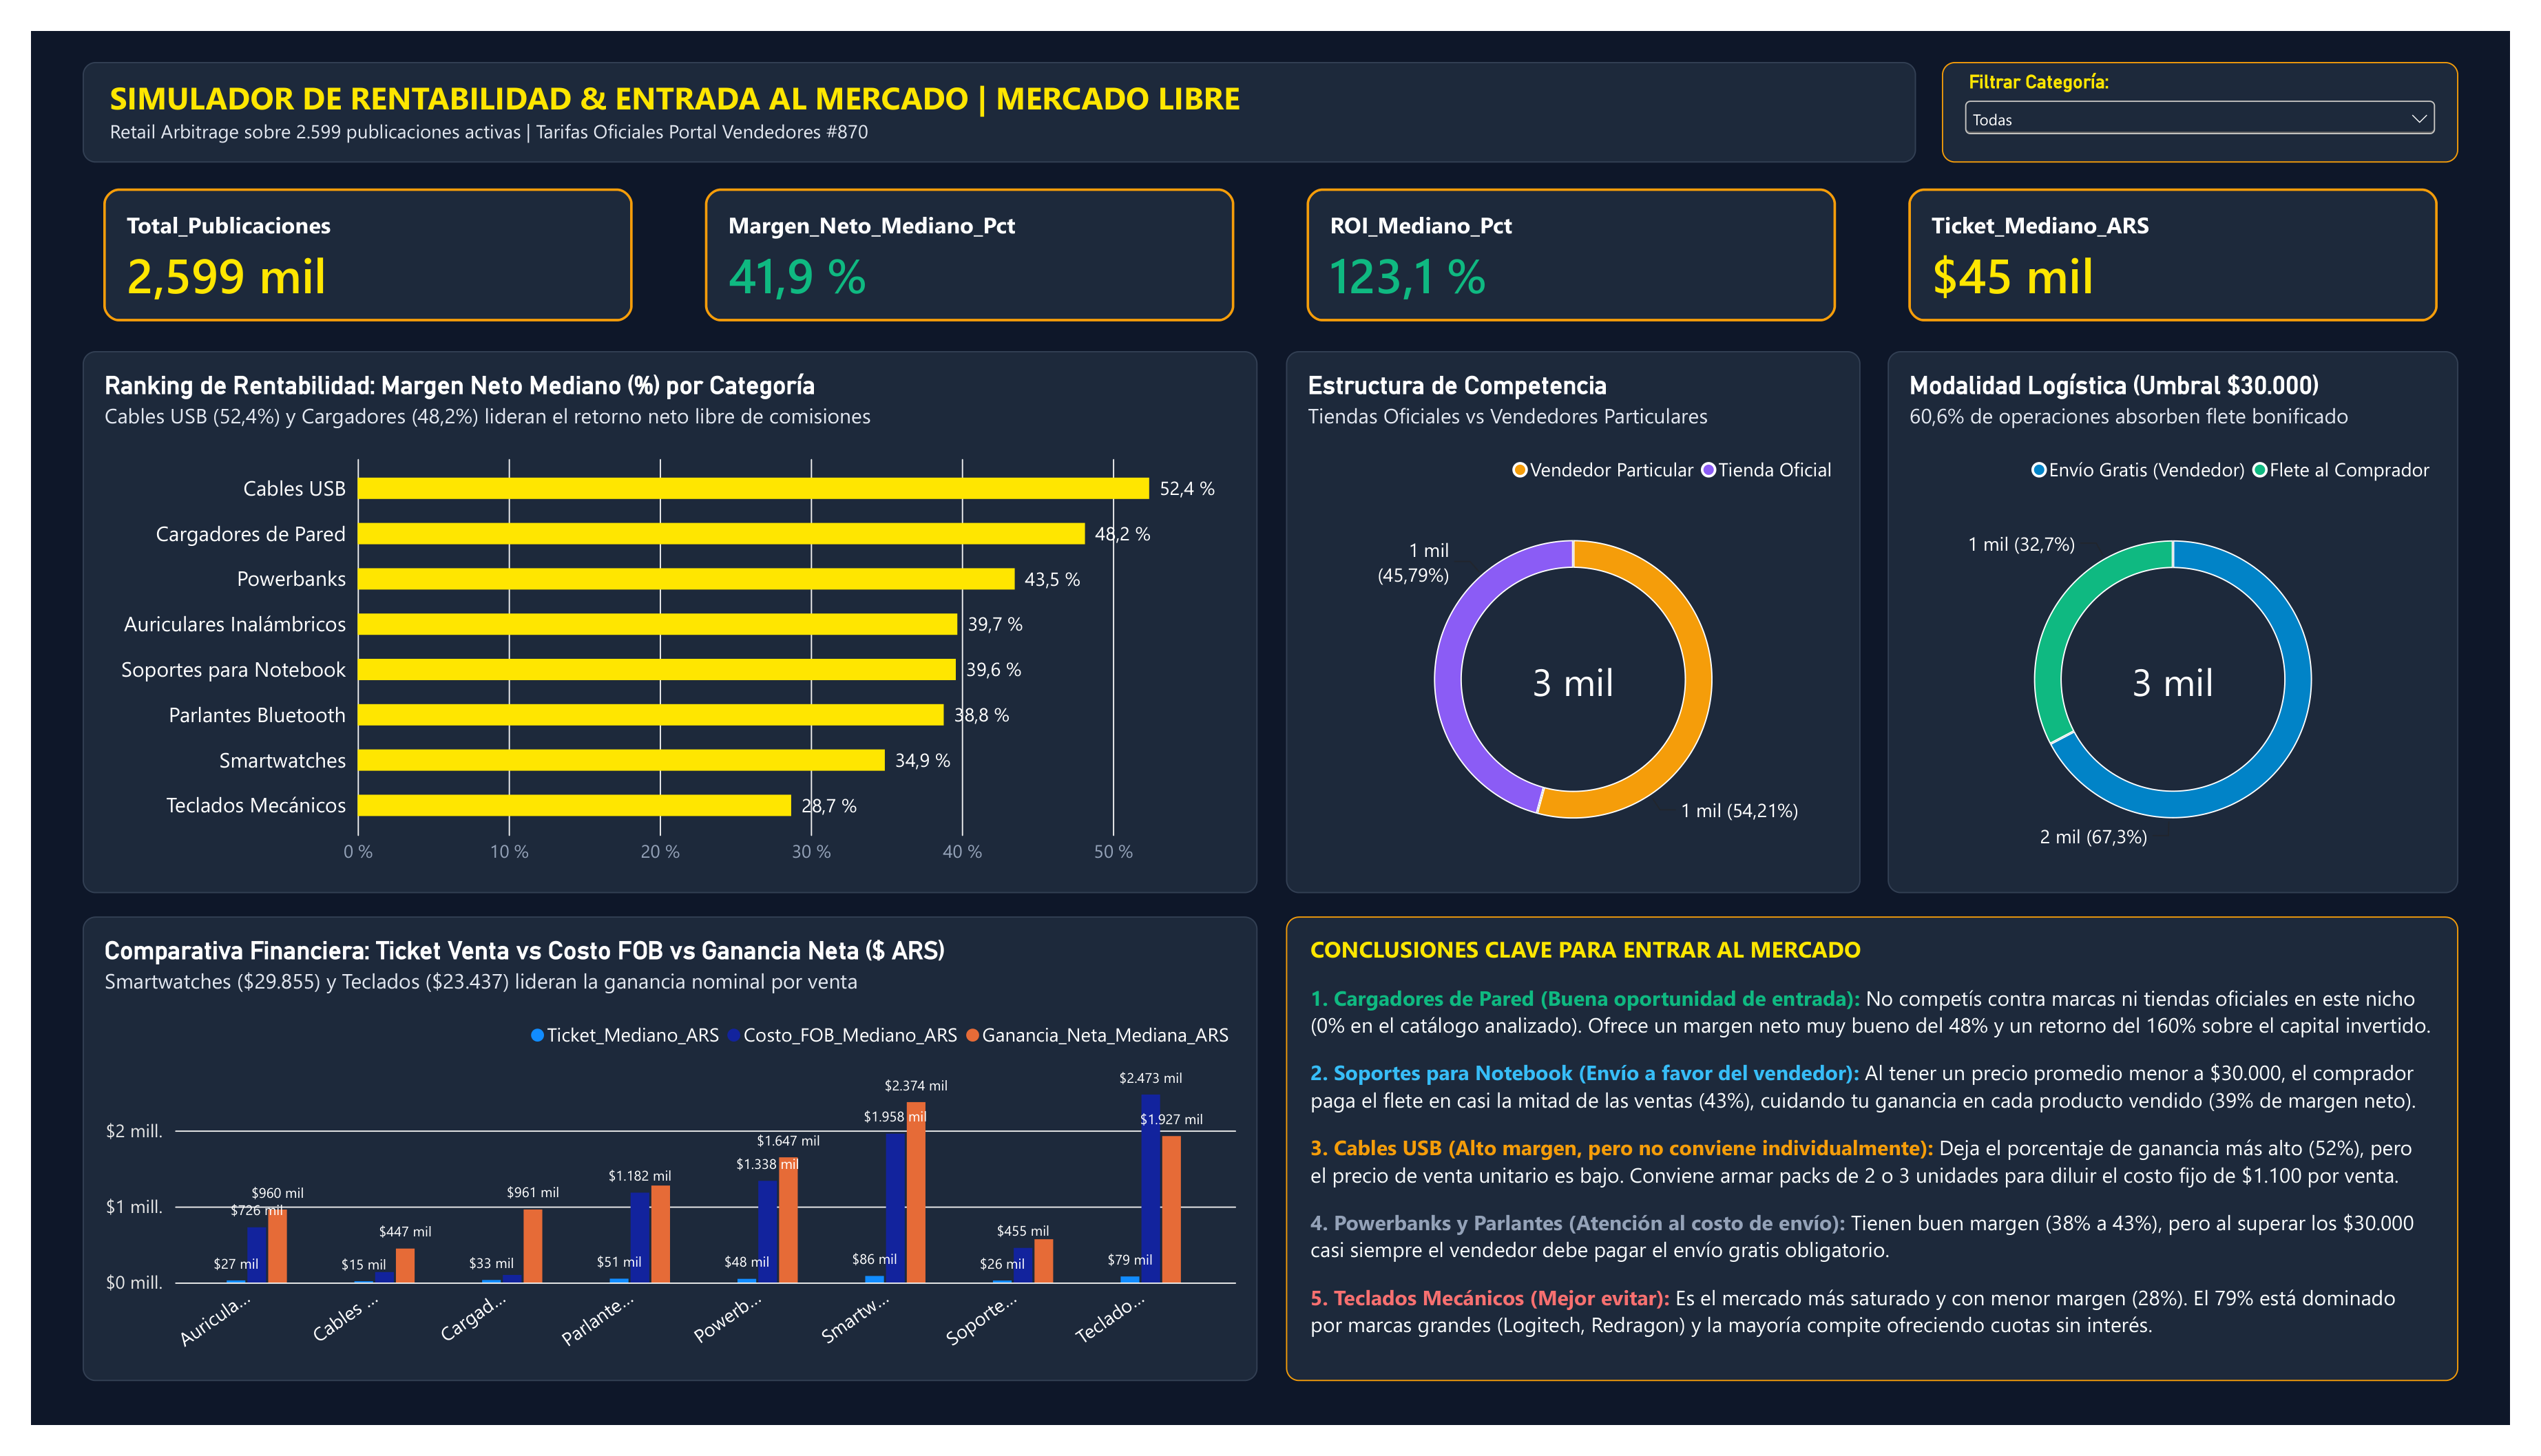

What the dashboard file says about the page in this screenshot:
{"tool":"powerbi","page":{"name":"Dashboard MELI","canvas":[1920,1080],"ordinal":0},"visuals":[{"type":"textbox","box":[40,24,1420,78],"z":0},{"type":"cardVisual","fields":{"Data":["simulador_meli_dataset_final.Total_Publicaciones"]},"box":[40,116,442,115],"z":1000},{"type":"cardVisual","fields":{"Data":["simulador_meli_dataset_final.Margen_Neto_Mediano_Pct"]},"box":[506,116,442,115],"z":2000},{"type":"cardVisual","fields":{"Data":["simulador_meli_dataset_final.ROI_Mediano_Pct"]},"box":[972,116,442,115],"z":3000},{"type":"cardVisual","fields":{"Data":["simulador_meli_dataset_final.Ticket_Mediano_ARS"]},"box":[1438,116,442,115],"z":4000},{"type":"clusteredBarChart","title":"Ranking de Rentabilidad: Margen Neto Mediano (%) por Categoría","fields":{"Category":["simulador_meli_dataset_final.Categoria"],"Y":["simulador_meli_dataset_final.Margen_Neto_Mediano_Pct"]},"box":[40,248,910,420],"z":5000},{"type":"donutChart","title":"Estructura de Competencia","fields":{"Category":["simulador_meli_dataset_final.Tipo_Vendedor"],"Y":["simulador_meli_dataset_final.Total_Publicaciones"]},"box":[972,248,445,420],"z":6000},{"type":"donutChart","title":"Modalidad Logística (Umbral $30.000)","fields":{"Category":["simulador_meli_dataset_final.Modalidad_Envio"],"Y":["simulador_meli_dataset_final.Total_Publicaciones"]},"box":[1438,248,442,420],"z":7000},{"type":"clusteredColumnChart","title":"Comparativa Financiera: Ticket Venta vs Costo FOB vs Ganancia Neta ($ ARS)","fields":{"Category":["simulador_meli_dataset_final.Categoria"],"Y":["simulador_meli_dataset_final.Ticket_Mediano_ARS","simulador_meli_dataset_final.Costo_FOB_Mediano_ARS","simulador_meli_dataset_final.Ganancia_Neta_Mediana_ARS"]},"box":[40,686,910,360],"z":8000},{"type":"textbox","box":[972,686,908,360],"z":9000},{"type":"slicer","fields":{"Values":["simulador_meli_dataset_final.Categoria"]},"box":[1480,24,400,78],"z":10000}]}

Visuals, with their boxes in screenshot pixels (x1, y1, x2, y2), scaled from the page's 1920x1080 canvas onto the 2541x1456 screenshot:
textbox: crop(53, 32, 1932, 138)
cardVisual - simulador_meli_dataset_final.Total_Publicaciones: crop(53, 156, 638, 311)
cardVisual - simulador_meli_dataset_final.Margen_Neto_Mediano_Pct: crop(669, 156, 1255, 311)
cardVisual - simulador_meli_dataset_final.ROI_Mediano_Pct: crop(1286, 156, 1872, 311)
cardVisual - simulador_meli_dataset_final.Ticket_Mediano_ARS: crop(1903, 156, 2488, 311)
"Ranking de Rentabilidad: Margen Neto Mediano (%) por Categoría" clusteredBarChart: crop(53, 335, 1257, 900)
"Estructura de Competencia" donutChart: crop(1286, 335, 1875, 900)
"Modalidad Logística (Umbral $30.000)" donutChart: crop(1903, 335, 2488, 900)
"Comparativa Financiera: Ticket Venta vs Costo FOB vs Ganancia Neta ($ ARS)" clusteredColumnChart: crop(53, 925, 1257, 1410)
textbox: crop(1286, 925, 2488, 1410)
slicer - simulador_meli_dataset_final.Categoria: crop(1958, 32, 2488, 138)
